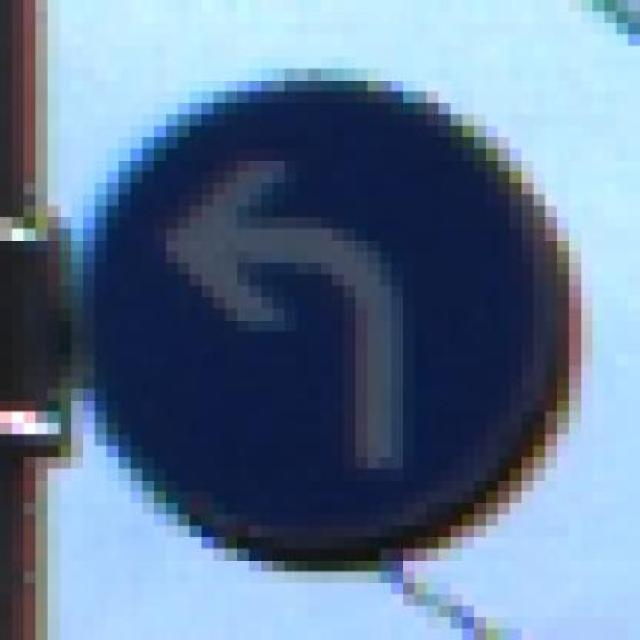Turn left ahead: (77, 62, 588, 578)
